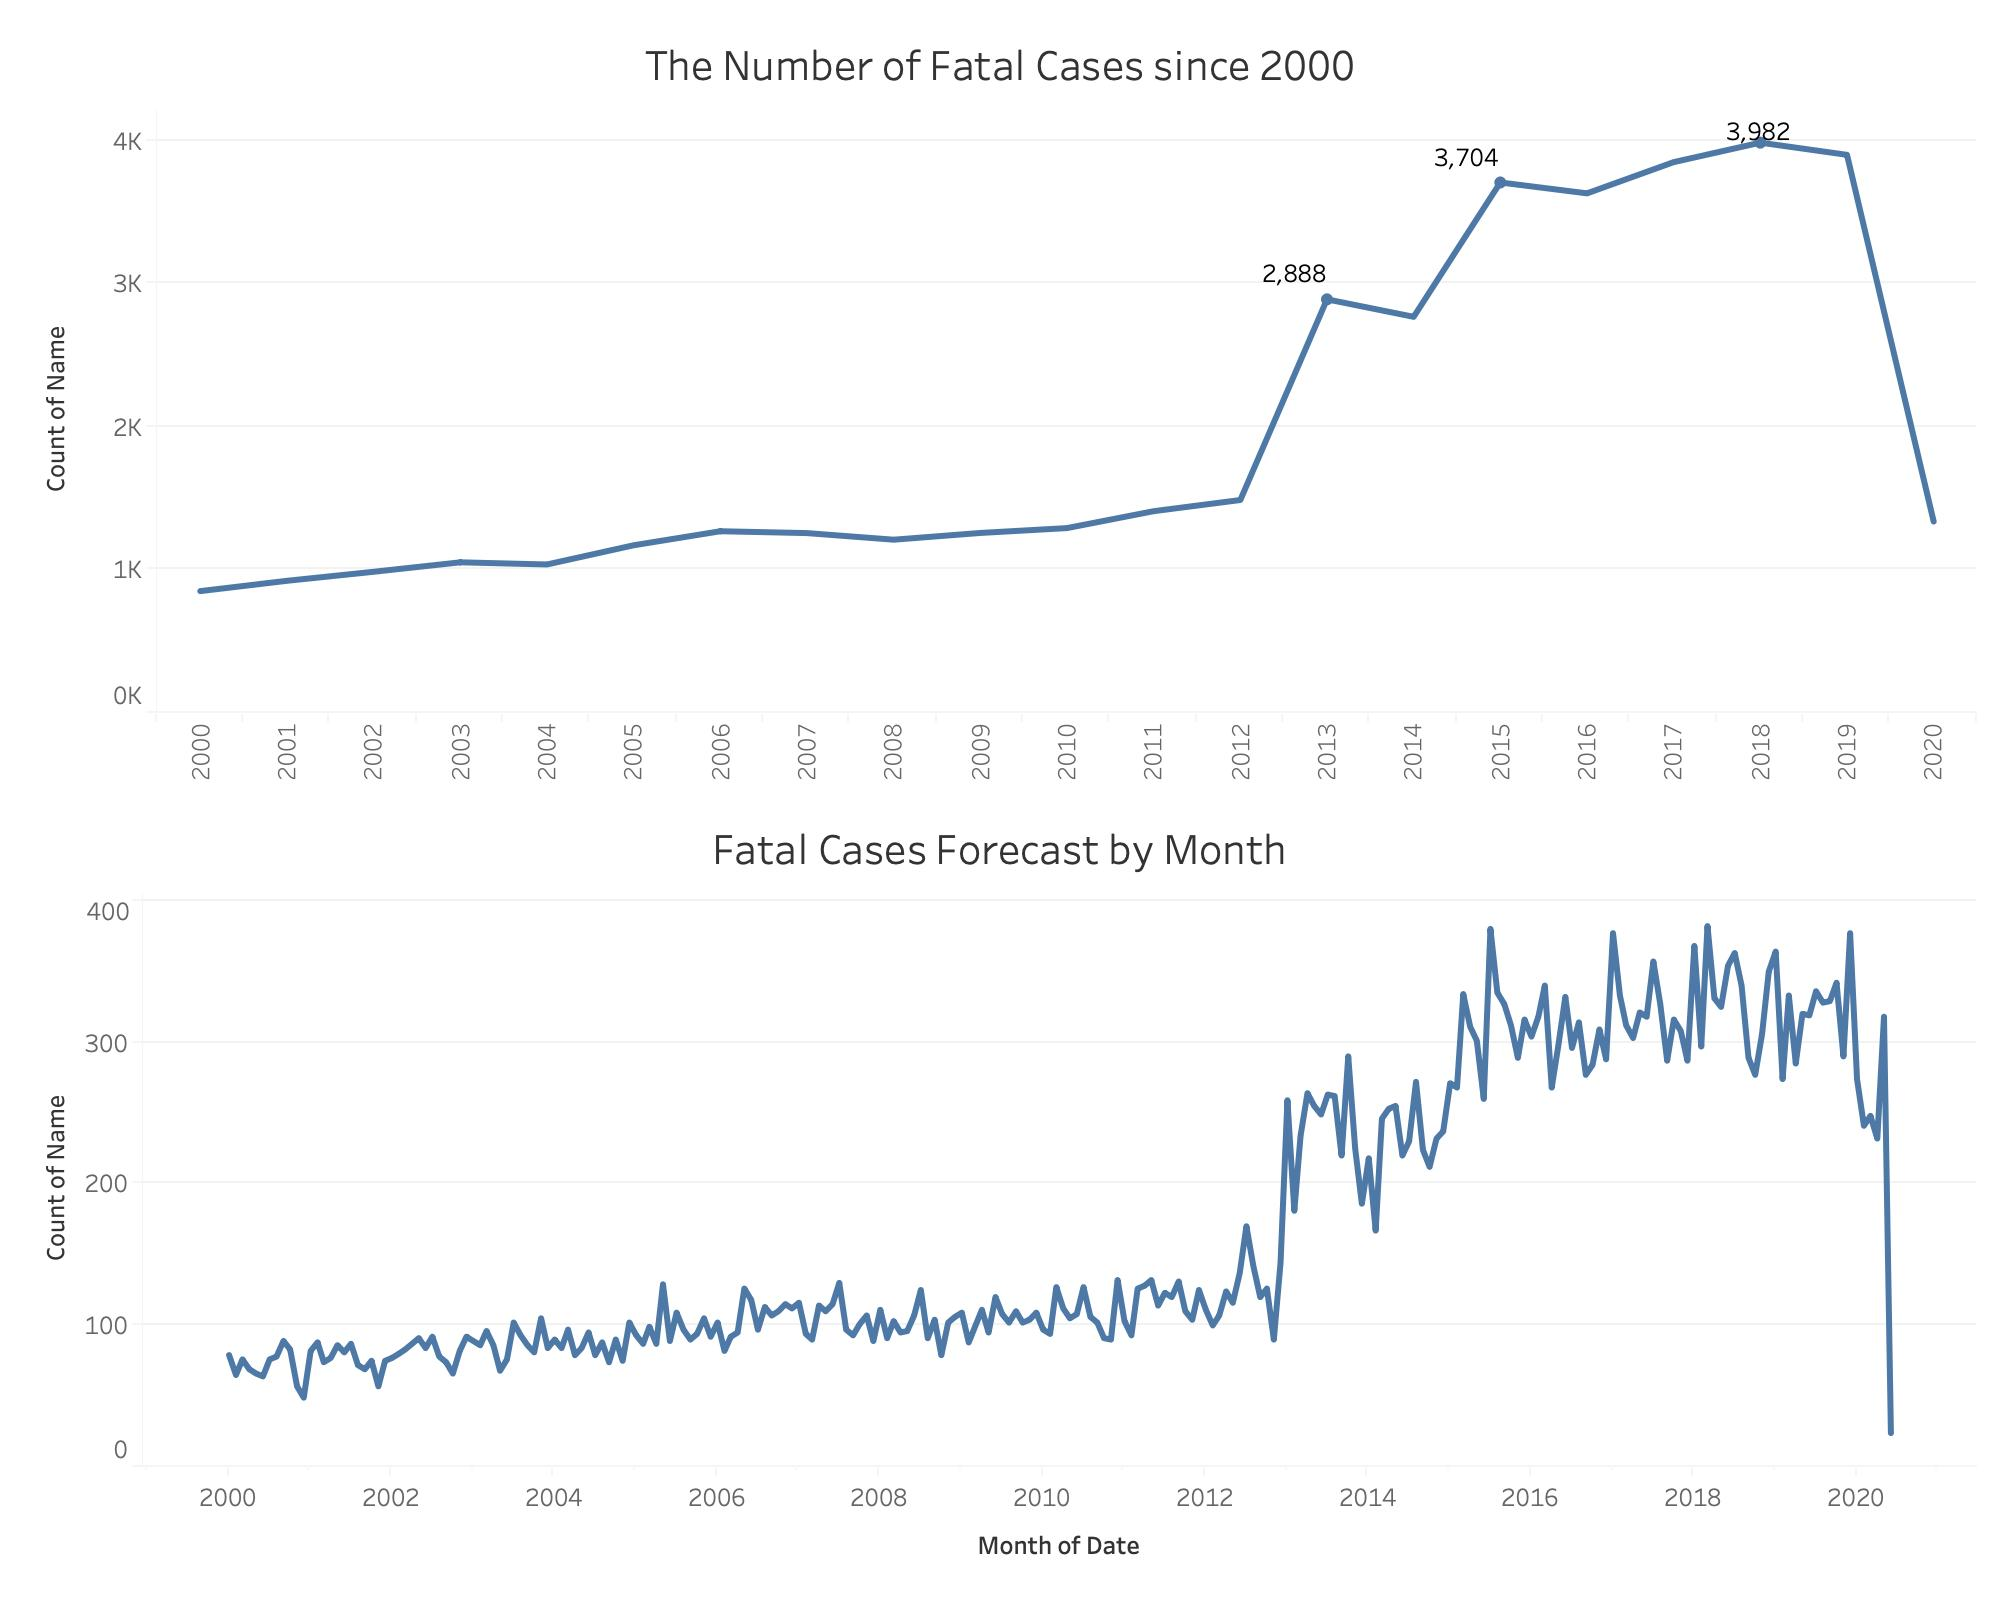

This screenshot's page, from the dashboard's own definition file:
{"tool":"tableau","page":{"name":"Dashboard 4","canvas":[1000,800],"ordinal":3},"visuals":[{"type":"worksheet","title":"Sheet 11","mark":"Automatic","rows":["name"],"cols":["date"],"box":[8,8,984,392]},{"type":"worksheet","title":"Sheet 12","mark":"Automatic","rows":["name"],"cols":["date"],"box":[8,400,984,392]}]}

Visuals, with their boxes in screenshot pixels (x1, y1, x2, y2), scaled from the page's 1000x800 canvas onto the 2000x1600 screenshot:
"Sheet 11" worksheet: detection(16, 16, 1984, 800)
"Sheet 12" worksheet: detection(16, 800, 1984, 1584)
